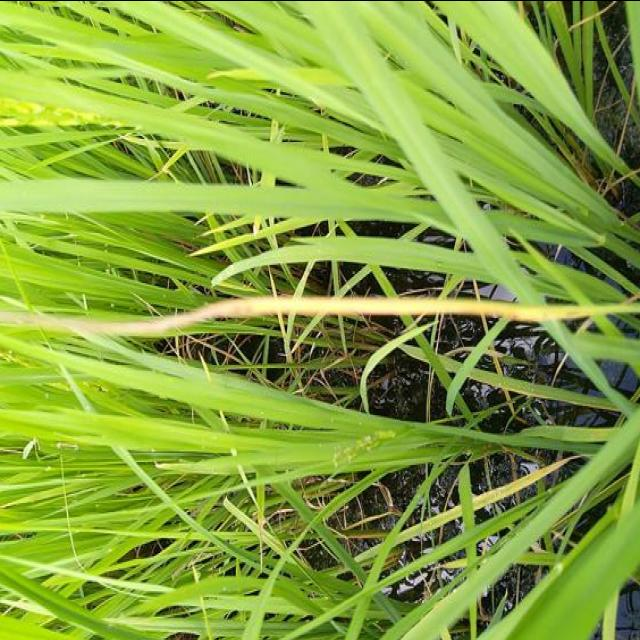Leaf Blight: (98, 293, 608, 335)
